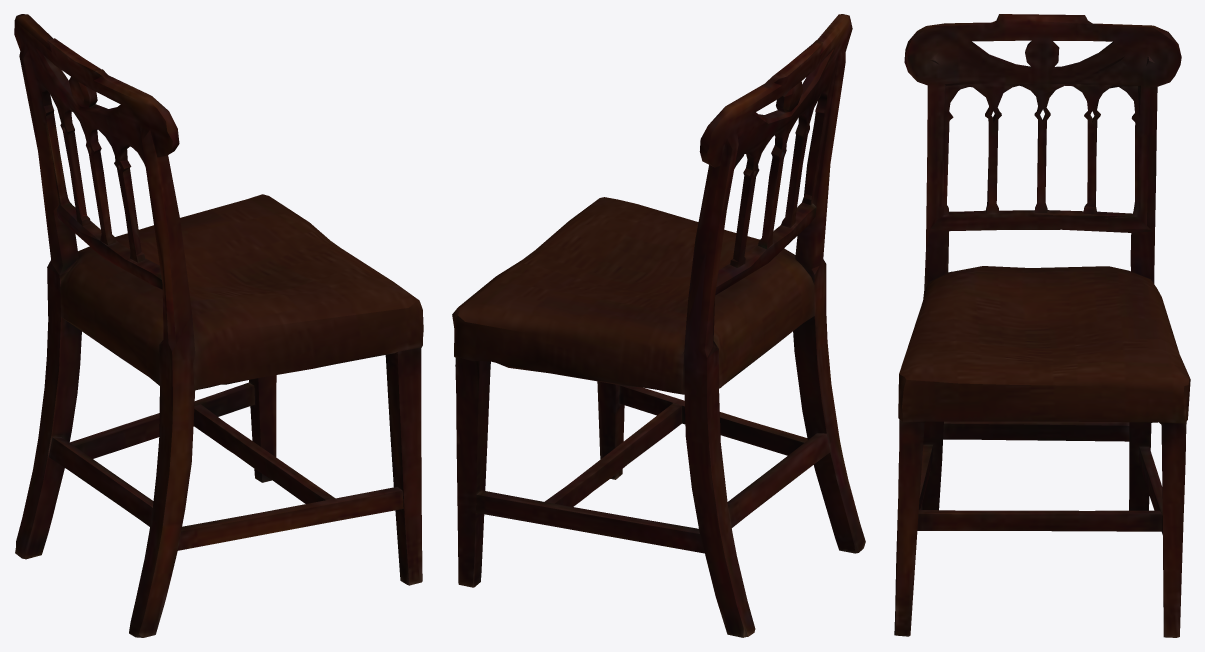
The model's file is chair-wooden-c.lod1.glb.
3 renders of one model, left to right at view 1: azimuth 30°, elevation 25°; view 2: azimuth 150°, elevation 25°; view 3: azimuth 270°, elevation 25°, orthographic. The views are drawn at different scales.
Parts seen in each view (by area): view 1: chair-wooden-c; view 2: chair-wooden-c; view 3: chair-wooden-c.
Part boxes in pixels (<box>): chair-wooden-c: <box>14,14,423,637</box>; chair-wooden-c: <box>452,14,865,637</box>; chair-wooden-c: <box>894,14,1190,637</box>.
Size of the model in its own units: 0.4869 by 0.8984 by 0.4797.
1 material, 1 textured.
